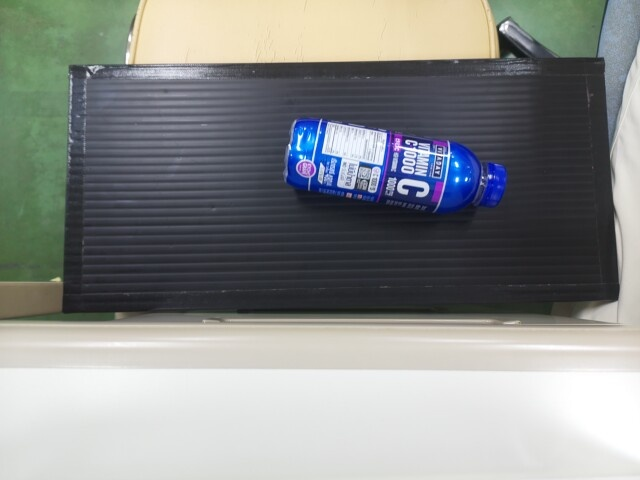plastic_bottle: (283, 110, 502, 214)
